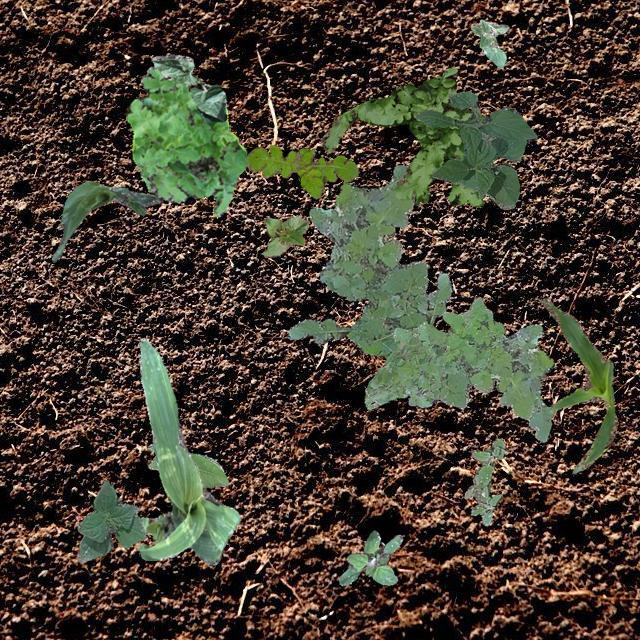crop: (136, 338, 240, 564), (414, 90, 536, 208), (537, 298, 617, 472), (52, 180, 162, 260), (76, 481, 144, 562), (150, 54, 226, 120), (146, 444, 228, 486), (260, 216, 308, 256), (470, 18, 508, 68)
weed: (383, 270, 552, 440), (288, 164, 427, 356), (320, 66, 484, 206), (125, 66, 246, 216), (363, 296, 502, 408), (245, 144, 358, 198), (464, 438, 506, 524), (338, 530, 402, 584)
